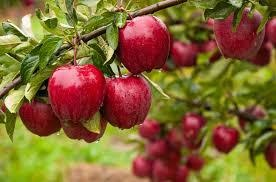apple: (47, 63, 106, 122), (117, 14, 171, 75), (102, 74, 152, 130), (19, 98, 61, 137), (212, 124, 240, 153), (264, 140, 276, 169)
apricot: (47, 63, 106, 122), (117, 14, 171, 74), (102, 74, 152, 129), (18, 99, 61, 137)
cherry: (118, 14, 171, 75)
grapes: (0, 1, 276, 182), (132, 112, 207, 182), (117, 14, 171, 74)
melon: (117, 14, 171, 75)
